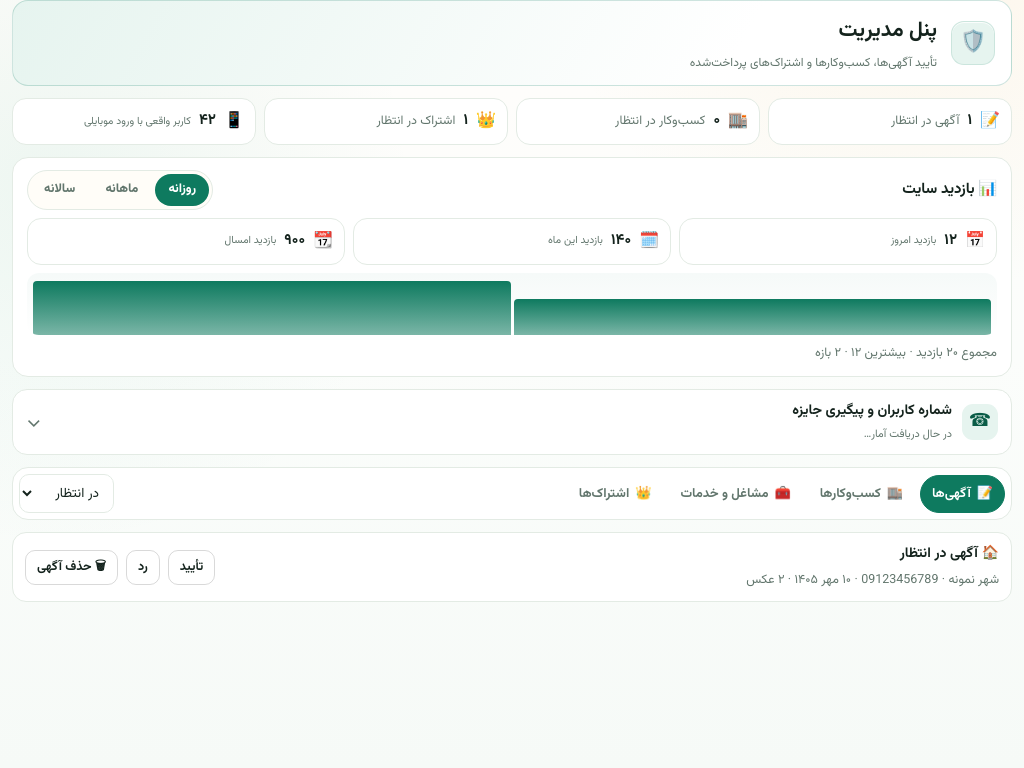
Test: AdminPanel › requires confirmation before a manager deletes a user ad
Click the button with test id "delete-ad-7" at (71, 567), box [25, 550, 118, 585]
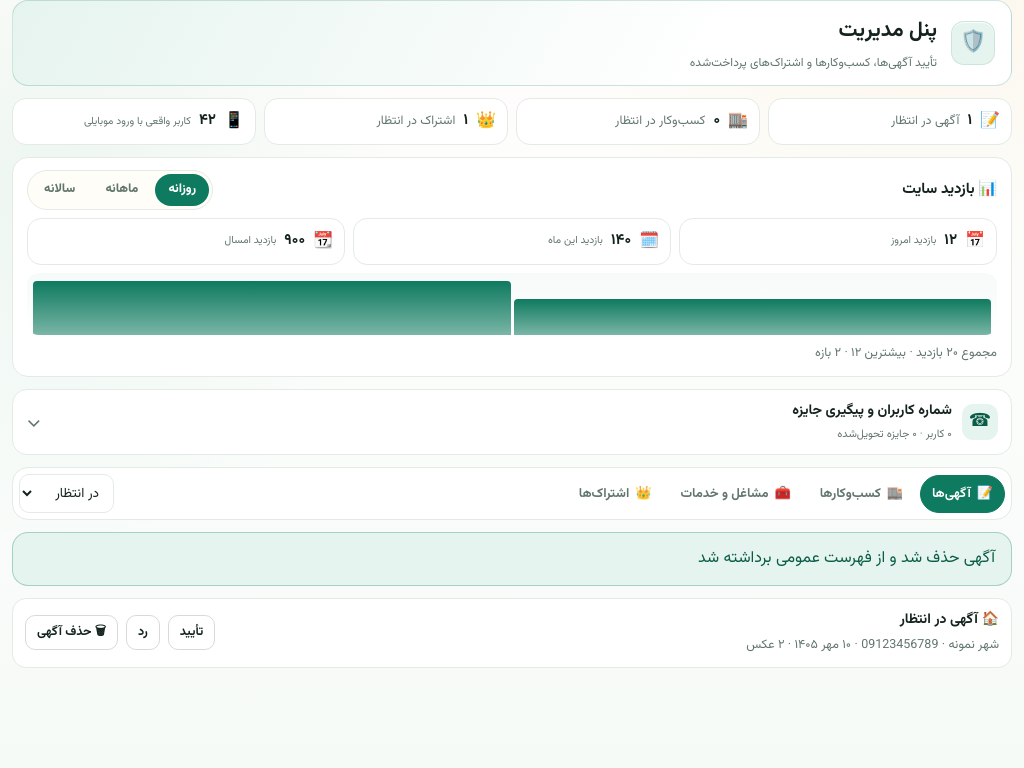
Check: the message shows "آگهی حذف شد", box [698, 546, 995, 571]
